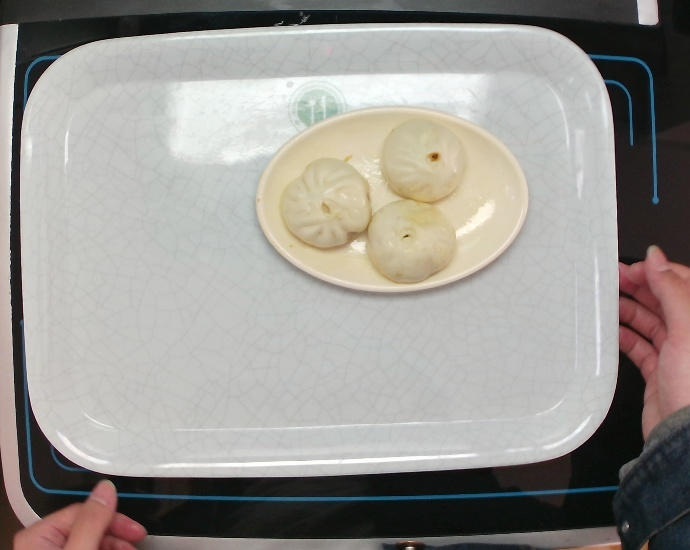JYsf-Tuo_Yuan_Wan: (251, 103, 533, 297)
